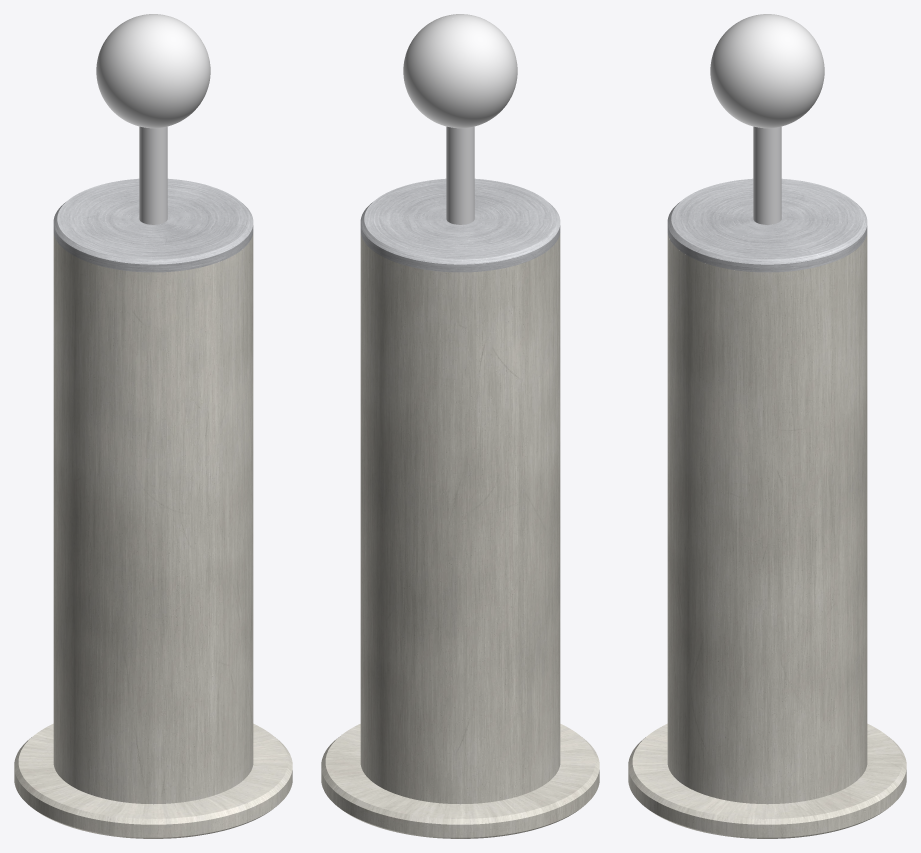
Rendered from king-white-hd.glb.
3 views of the same model, side by side, from view 1: azimuth 30°, elevation 25°; view 2: azimuth 150°, elevation 25°; view 3: azimuth 270°, elevation 25° (orthographic).
Parts seen in each view (by area): view 1: ferro-orbis_king_white; view 2: ferro-orbis_king_white; view 3: ferro-orbis_king_white.
Part boxes in pixels (x1,y1,x2,y2): ferro-orbis_king_white: (14, 14, 292, 838); ferro-orbis_king_white: (321, 14, 599, 838); ferro-orbis_king_white: (628, 14, 906, 838).
Bounding box in the file's own units: 0.5469 × 1.65 × 0.5469.
Materials: 4 (2 with a texture image).
